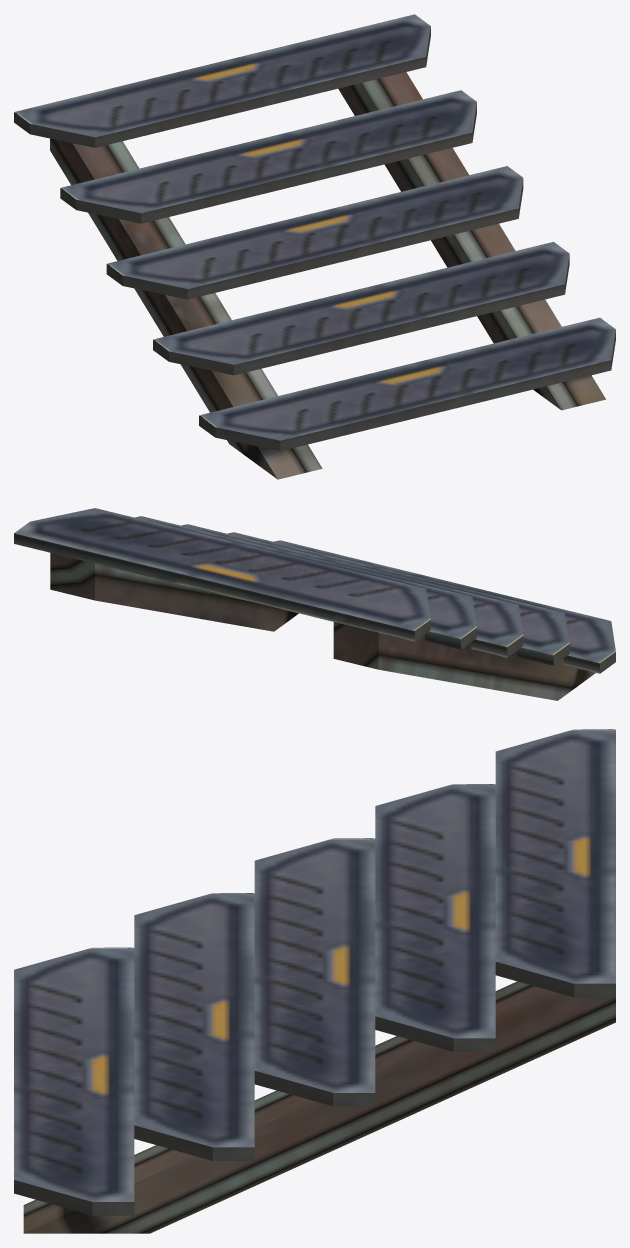
Rendered from MO_METAL_STAIRS_01.fbx.
3 views of the same model, one above another, from view 1: azimuth 30°, elevation 25°; view 2: azimuth 150°, elevation 25°; view 3: azimuth 270°, elevation 25° (orthographic). The views are drawn at different scales.
Parts seen in each view (by area): view 1: MO_METAL STAIRS_01; view 2: MO_METAL STAIRS_01; view 3: MO_METAL STAIRS_01.
Part boxes in pixels (x1,y1,x2,y2): MO_METAL STAIRS_01: [14, 14, 615, 479]; MO_METAL STAIRS_01: [14, 508, 615, 700]; MO_METAL STAIRS_01: [14, 729, 615, 1233].
Size of the model in its own units: 2 by 1 by 2.
